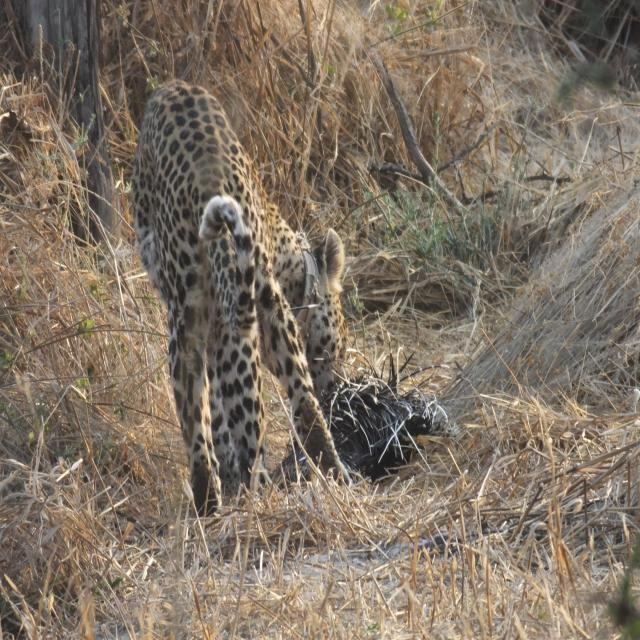Leopard: (125, 73, 349, 520)
